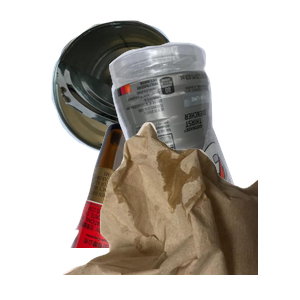glass: (68, 120, 255, 300)
metal: (49, 18, 229, 164)
plastic: (106, 40, 300, 220)
trash: (60, 120, 300, 300)
